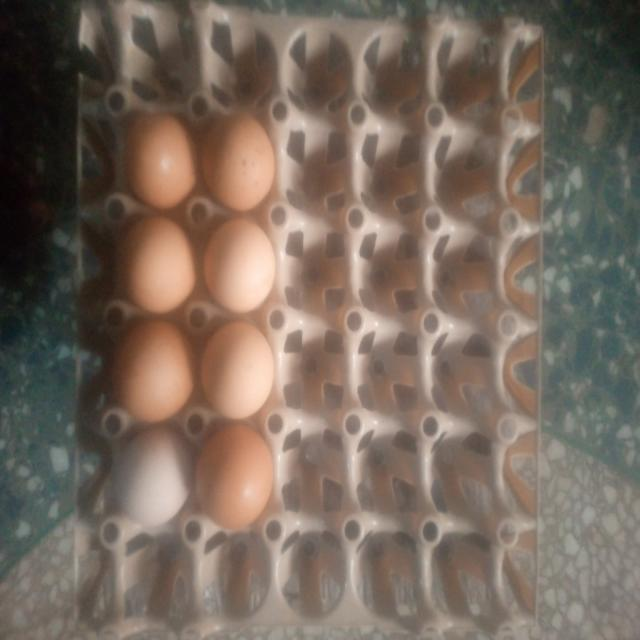Eggs: (111, 321, 196, 424), (198, 432, 278, 539), (110, 431, 192, 532), (205, 105, 279, 212), (120, 212, 196, 313), (201, 324, 275, 423), (122, 106, 195, 206), (205, 220, 278, 316)
